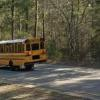Bus: (3, 32, 48, 73)
